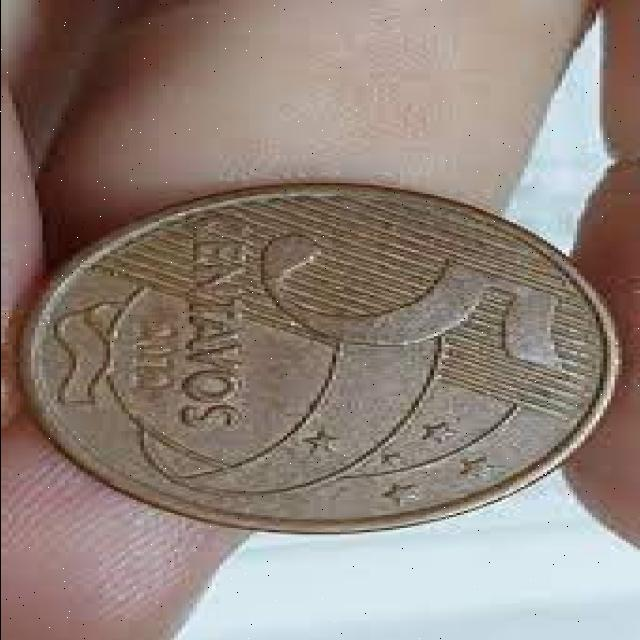5 cent: (43, 190, 615, 528)
